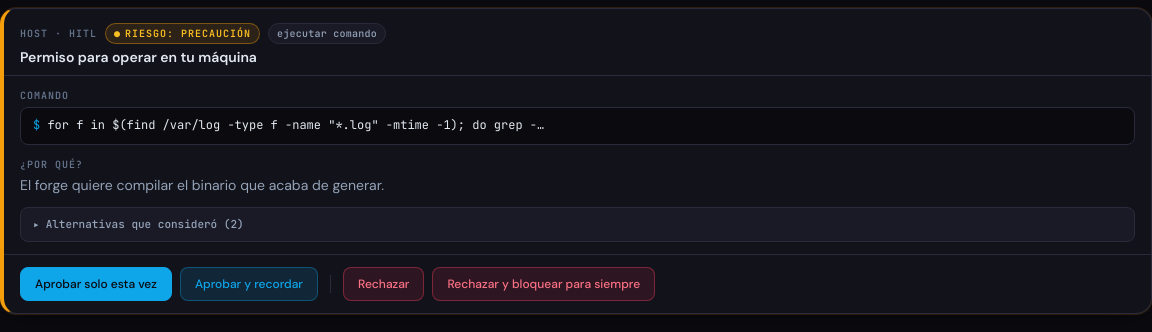
HostApprovalCard › truncates long commands and expands them on click
Click the button with test id "host-approval-command". click: point(296, 125)
box: [20, 107, 1135, 145]
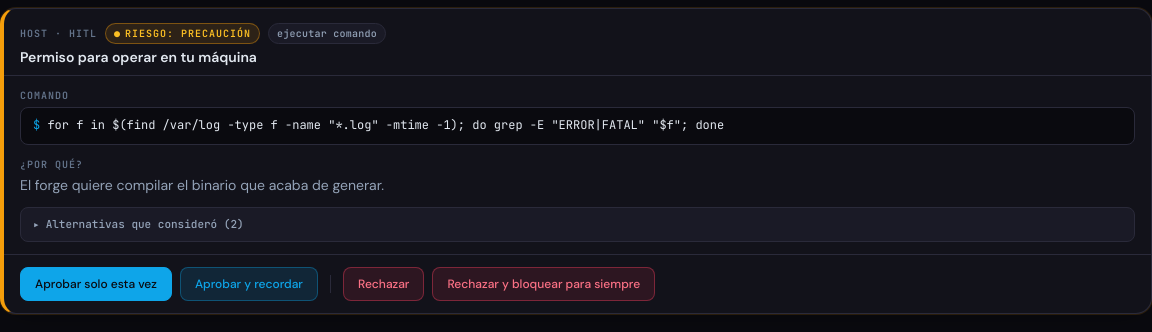
Expected: the button with test id "host-approval-command" is expanded, [20, 107, 1135, 145]
